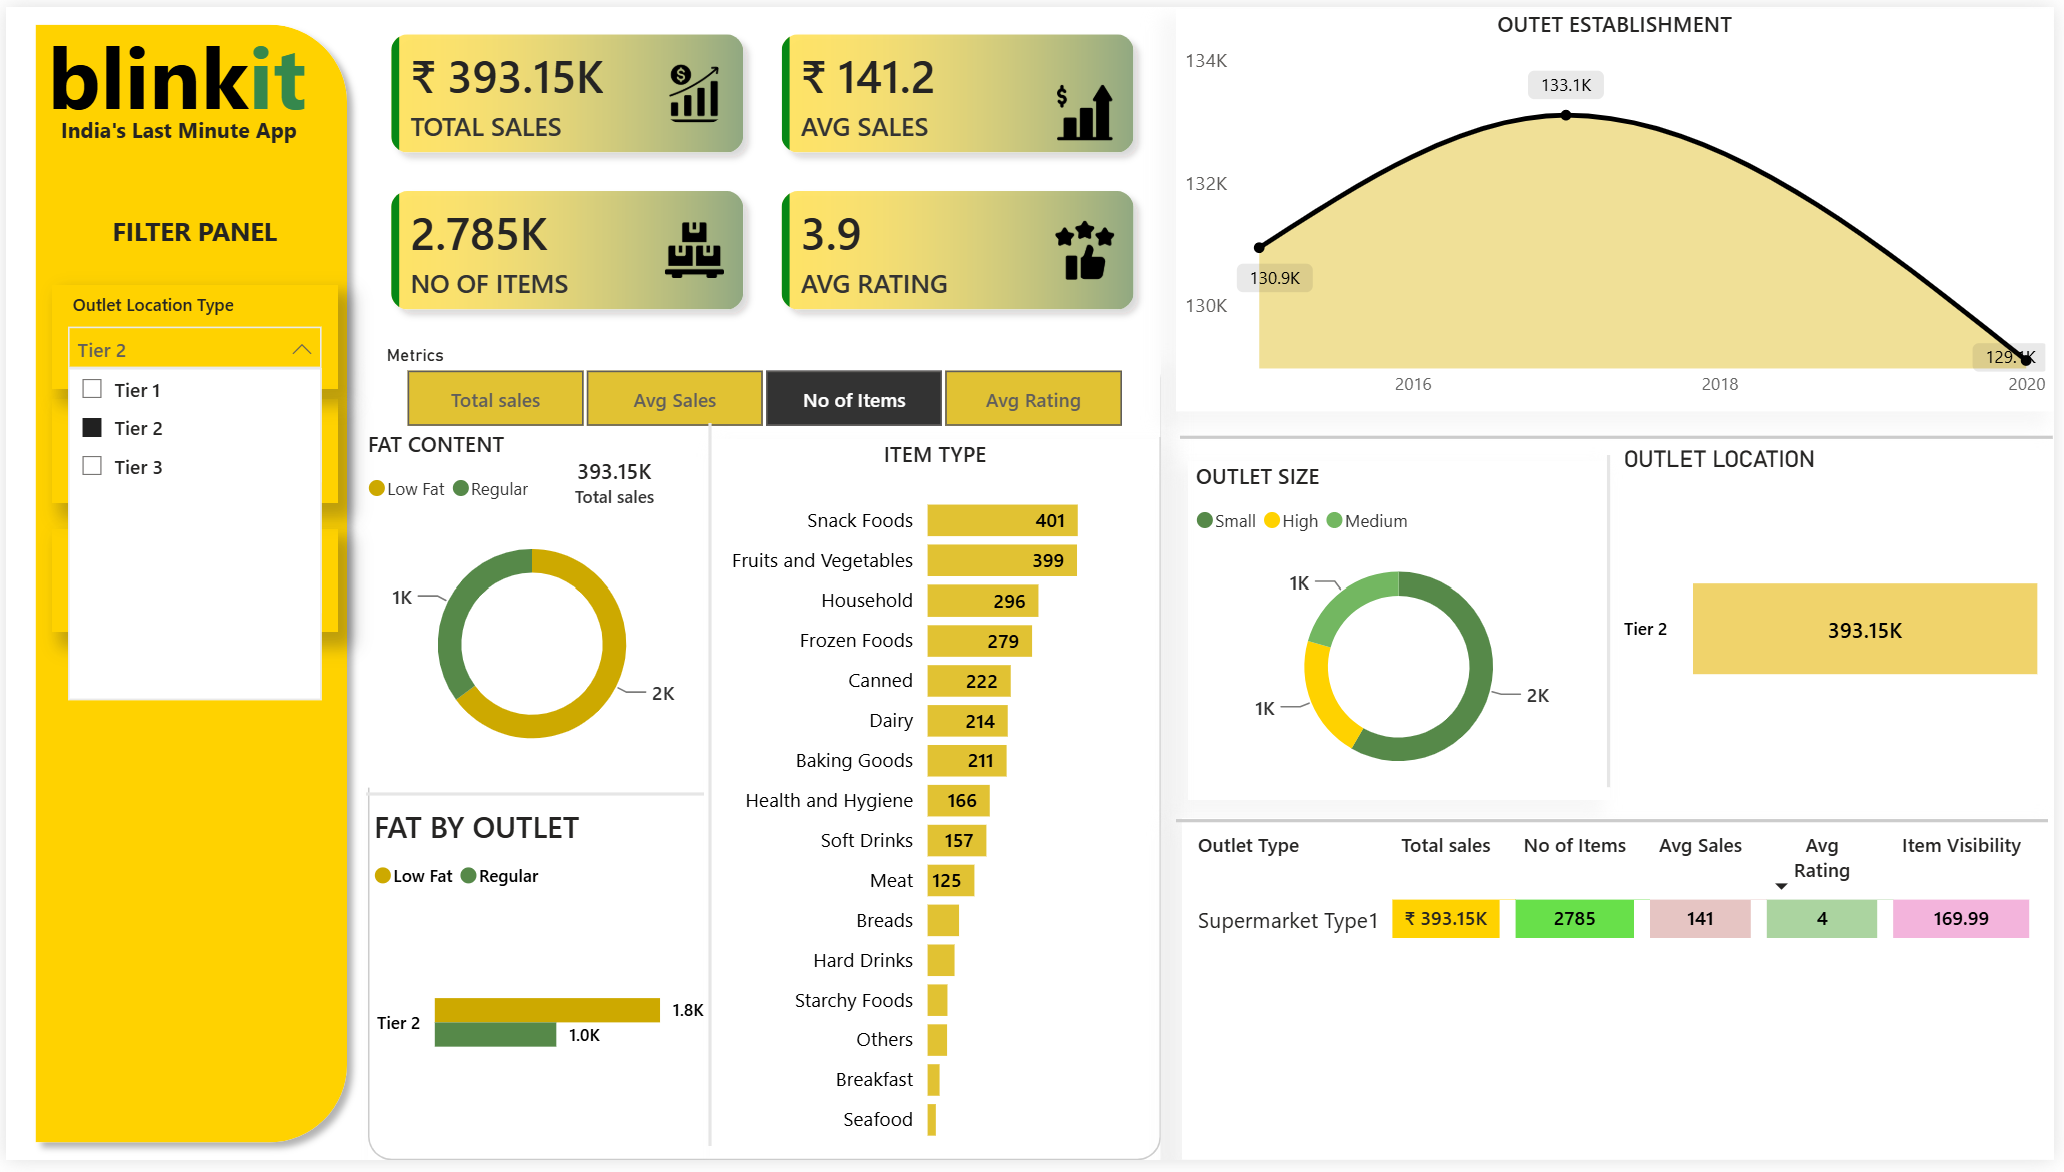

The page's visual inventory and layout, read from the dashboard file:
{"tool":"powerbi","page":{"name":"Page 1","canvas":[1280,720],"ordinal":0},"visuals":[{"type":"shape","title":"blinkit","box":[8.9,0,216.7,720],"z":0},{"type":"textbox","box":[280,650,233.8,71.2],"z":1000},{"type":"textbox","box":[7.5,1.2,198.8,90],"z":2000},{"type":"textbox","box":[27.5,62.5,161.2,28.8],"z":3000},{"type":"cardVisual","fields":{"Data":["BlinkIT Grocery Data.Total sales","BlinkIT Grocery Data.Avg Sales","BlinkIT Grocery Data.No of Items","BlinkIT Grocery Data.Avg Rating"]},"box":[223.3,0,498.3,206.7],"z":4000},{"type":"shape","box":[225.7,218.6,495.7,501.4],"z":5000},{"type":"donutChart","title":"FAT CONTENT","fields":{"Y":["BlinkIT Grocery Data.Total sales"],"Category":["BlinkIT Grocery Data.Item Fat Content"]},"box":[221.7,263.3,215,223.3],"z":6000},{"type":"slicer","fields":{"Values":["Metrics.Metrics"]},"box":[225,206.2,496.2,62.5],"z":7000},{"type":"cardVisual","fields":{"Data":["BlinkIT Grocery Data.Total sales"]},"box":[321.7,263.3,118.3,65],"z":8000},{"type":"clusteredBarChart","title":"FAT BY OUTLET","fields":{"Y":["BlinkIT Grocery Data.Total sales"],"Category":["BlinkIT Grocery Data.Outlet Location Type"],"Series":["BlinkIT Grocery Data.Item Fat Content"]},"box":[225,498.3,216.7,213.3],"z":9000},{"type":"shape","box":[225,475,211.2,32.5],"z":10000},{"type":"shape","box":[427.5,260,25,451.2],"z":11000},{"type":"barChart","title":"ITEM TYPE","fields":{"Y":["BlinkIT Grocery Data.Total sales"],"Category":["BlinkIT Grocery Data.Item Type"]},"box":[440,270,281.4,450],"z":12000},{"type":"lineChart","title":"OUTET ESTABLISHMENT","fields":{"Y":["BlinkIT Grocery Data.Total sales"],"Category":["BlinkIT Grocery Data.Outlet Establishment Year"]},"box":[731.4,2.3,548.3,251.7],"z":13000},{"type":"shape","box":[734.3,262.9,545.7,12.9],"z":14000},{"type":"donutChart","title":"OUTLET SIZE","fields":{"Y":["BlinkIT Grocery Data.Total sales"],"Category":["BlinkIT Grocery Data.Outlet Size"]},"box":[738.3,283.3,263.3,211.7],"z":15000},{"type":"shape","box":[994.3,280,15.7,207.1],"z":16000},{"type":"funnel","title":"OUTLET LOCATION","fields":{"Y":["Sum(BlinkIT Grocery Data.Sales)"],"Category":["BlinkIT Grocery Data.Outlet Location Type"]},"box":[1006.7,273.3,273.3,211.7],"z":17000},{"type":"pivotTable","fields":{"Values":["BlinkIT Grocery Data.Total sales","BlinkIT Grocery Data.No of Items","BlinkIT Grocery Data.Avg Sales","BlinkIT Grocery Data.Avg Rating","Sum(BlinkIT Grocery Data.Item Visibility)"],"Rows":["BlinkIT Grocery Data.Outlet Type"]},"box":[735,506.7,545,213.3],"z":18000},{"type":"shape","box":[731.7,486.7,545,43.3],"z":19000},{"type":"slicer","fields":{"Values":["BlinkIT Grocery Data.Outlet Location Type"]},"box":[28.3,173.3,178.3,65],"z":20000},{"type":"slicer","fields":{"Values":["BlinkIT Grocery Data.Outlet Size"]},"box":[28.3,245,178.3,65],"z":21000},{"type":"slicer","fields":{"Values":["BlinkIT Grocery Data.Item Type"]},"box":[28.3,326.7,178.3,63.3],"z":22000},{"type":"shape","title":"FILTER PANEL","box":[28.3,128.3,178.3,30],"z":23000}]}

Visuals, with their boxes in screenshot pixels (x1, y1, x2, y2), scaled from the page's 1280x720 canvas onto the 2064x1172 screenshot:
"blinkit" shape: [14, 0, 364, 1171]
textbox: [452, 1058, 829, 1171]
textbox: [12, 2, 333, 148]
textbox: [44, 102, 304, 149]
cardVisual - BlinkIT Grocery Data.Total sales x BlinkIT Grocery Data.Avg Sales: [360, 0, 1164, 336]
shape: [364, 356, 1163, 1171]
"FAT CONTENT" donutChart: [357, 429, 704, 792]
slicer - Metrics.Metrics: [363, 336, 1163, 437]
cardVisual - BlinkIT Grocery Data.Total sales: [519, 429, 710, 534]
"FAT BY OUTLET" clusteredBarChart: [363, 811, 712, 1158]
shape: [363, 773, 703, 826]
shape: [689, 423, 730, 1158]
"ITEM TYPE" barChart: [710, 440, 1163, 1171]
"OUTET ESTABLISHMENT" lineChart: [1179, 4, 2063, 413]
shape: [1184, 428, 2063, 449]
"OUTLET SIZE" donutChart: [1191, 461, 1615, 806]
shape: [1603, 456, 1629, 793]
"OUTLET LOCATION" funnel: [1623, 445, 2063, 789]
pivotTable - BlinkIT Grocery Data.Total sales x BlinkIT Grocery Data.No of Items: [1185, 825, 2063, 1171]
shape: [1180, 792, 2059, 863]
slicer - BlinkIT Grocery Data.Outlet Location Type: [46, 282, 333, 388]
slicer - BlinkIT Grocery Data.Outlet Size: [46, 399, 333, 505]
slicer - BlinkIT Grocery Data.Item Type: [46, 532, 333, 635]
"FILTER PANEL" shape: [46, 209, 333, 258]
